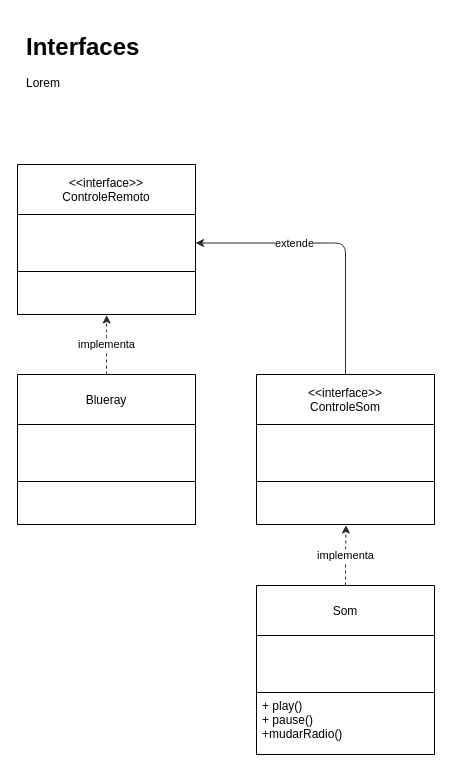
This 461x774 diagram has some shape labels left out. The shapes that lost their labels are listed below. From the top down, each one's centre as x and y in pixels, then its label:
At point (106, 292): "+ play() + pause()".
At point (106, 502): "+ pay() + pause()".
At point (345, 502): "+ mudarRadio()".
